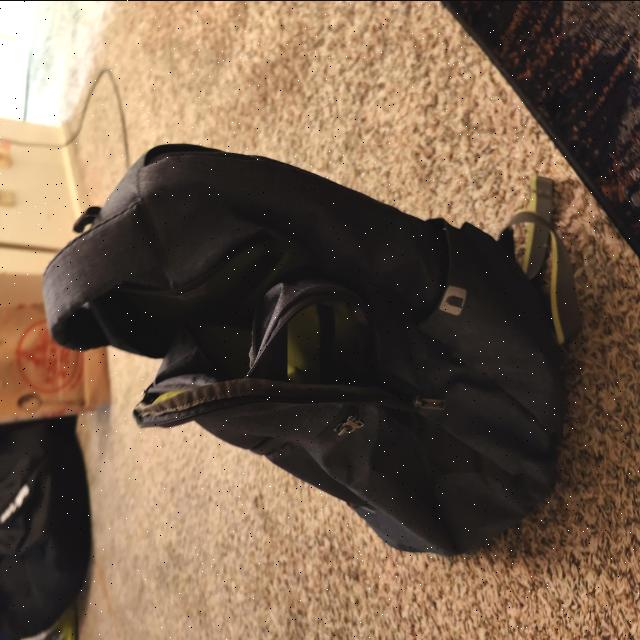bag: (72, 164, 572, 518)
